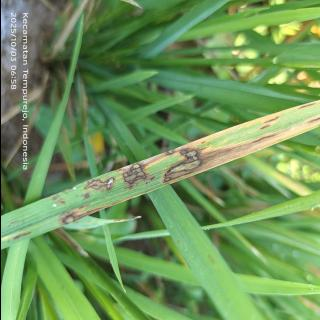Blast: (158, 140, 206, 190), (73, 170, 116, 199), (118, 158, 152, 192), (52, 202, 88, 232)
